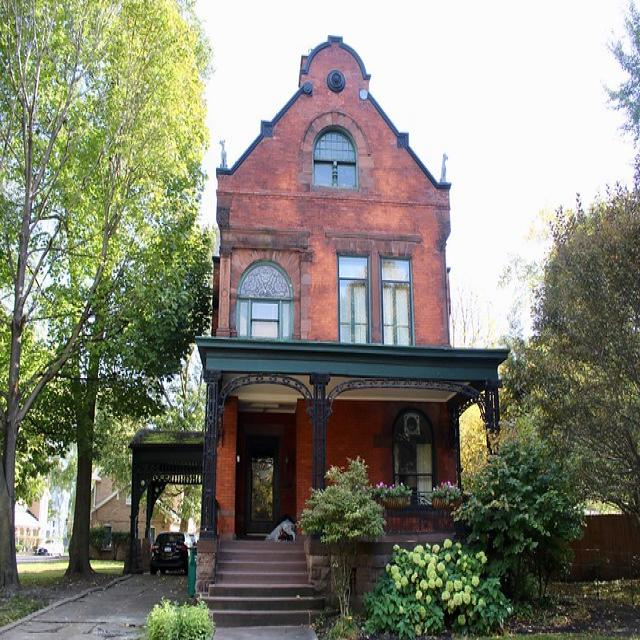Normal_building: (194, 33, 511, 624)
